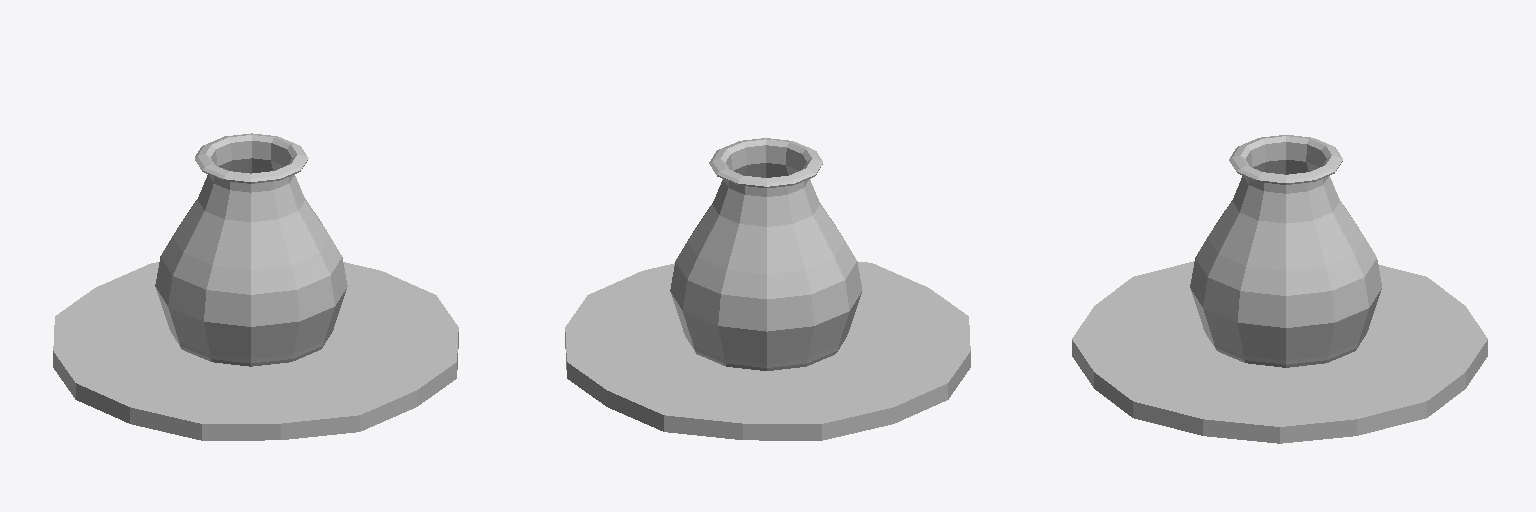
Rendered from pot.obj.
3 renders of one model, left to right at view 1: azimuth 30°, elevation 25°; view 2: azimuth 150°, elevation 25°; view 3: azimuth 270°, elevation 25°, orthographic.
Size of the model in its own units: 3.6 by 1.91 by 3.6.